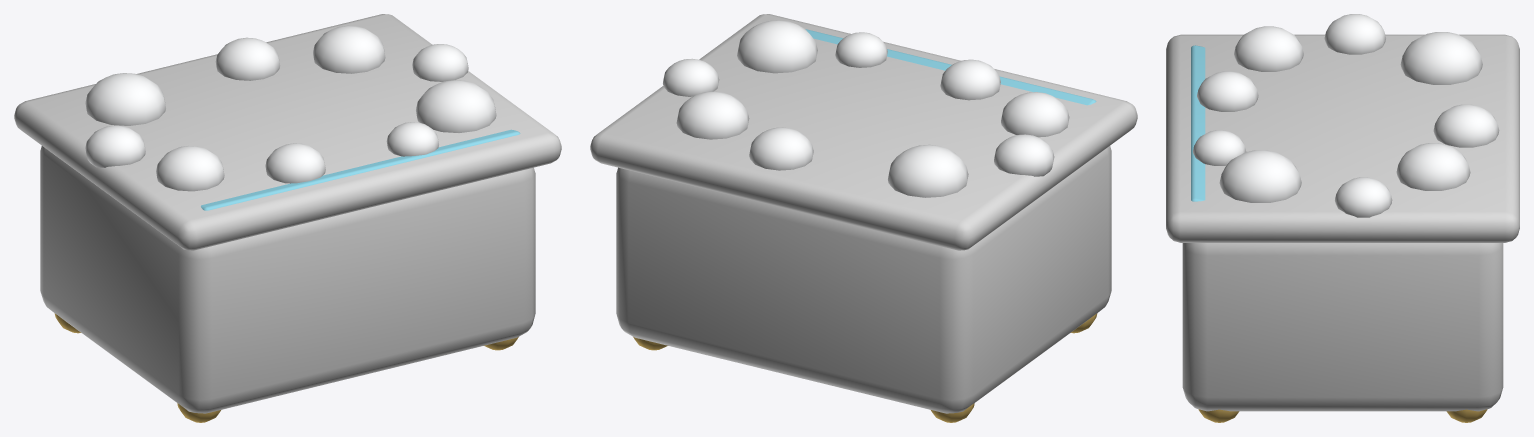
File: bath-set.glb
3 renders of one model, left to right at view 1: azimuth 30°, elevation 25°; view 2: azimuth 150°, elevation 25°; view 3: azimuth 270°, elevation 25°, orthographic.
Visible parts, largest first — view 1: BathSet; view 2: BathSet; view 3: BathSet.
Part boxes in pixels (x1=…): BathSet: x1=14, y1=14, x2=561, y2=422; BathSet: x1=590, y1=14, x2=1137, y2=422; BathSet: x1=1166, y1=14, x2=1519, y2=422.
Size of the model in its own units: 1.08 by 0.685 by 0.86.
